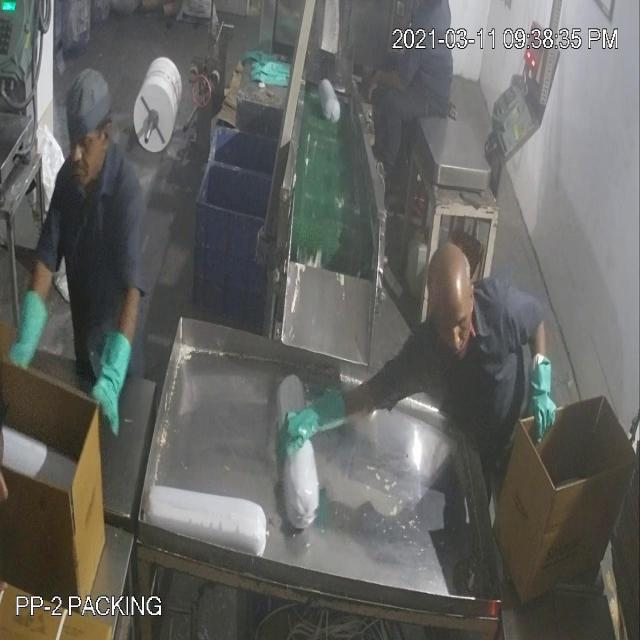Gloves: (32, 112, 304, 418)
